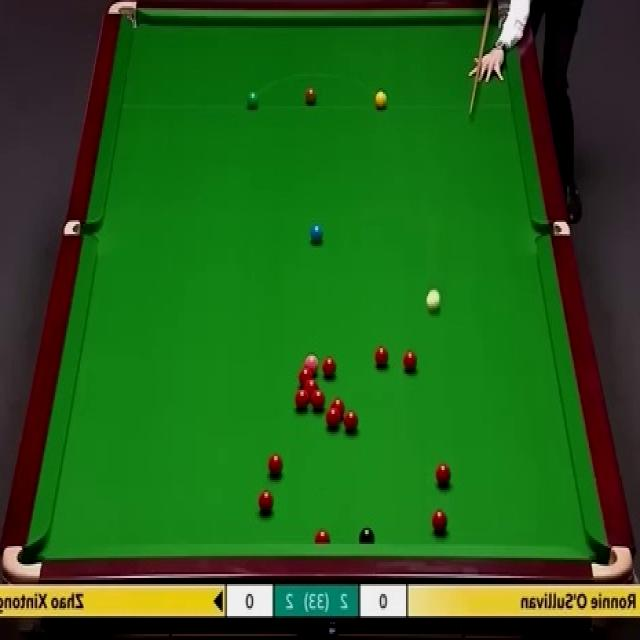black-ball: (358, 528, 374, 544)
blue-ball: (310, 225, 324, 242)
brown-ball: (305, 88, 316, 106)
green-ball: (245, 88, 260, 110)
pink-ball: (304, 354, 319, 374)
red-ball: (431, 511, 448, 534), (298, 366, 315, 389), (258, 490, 273, 514), (321, 358, 339, 378), (344, 409, 359, 433), (434, 464, 452, 484), (374, 343, 389, 366), (267, 454, 282, 477), (296, 385, 310, 409), (403, 350, 418, 372), (312, 389, 326, 409), (331, 398, 344, 418), (326, 408, 339, 428), (313, 529, 331, 543)
white-ball: (425, 287, 442, 315)
yellow-ball: (375, 90, 387, 110)
